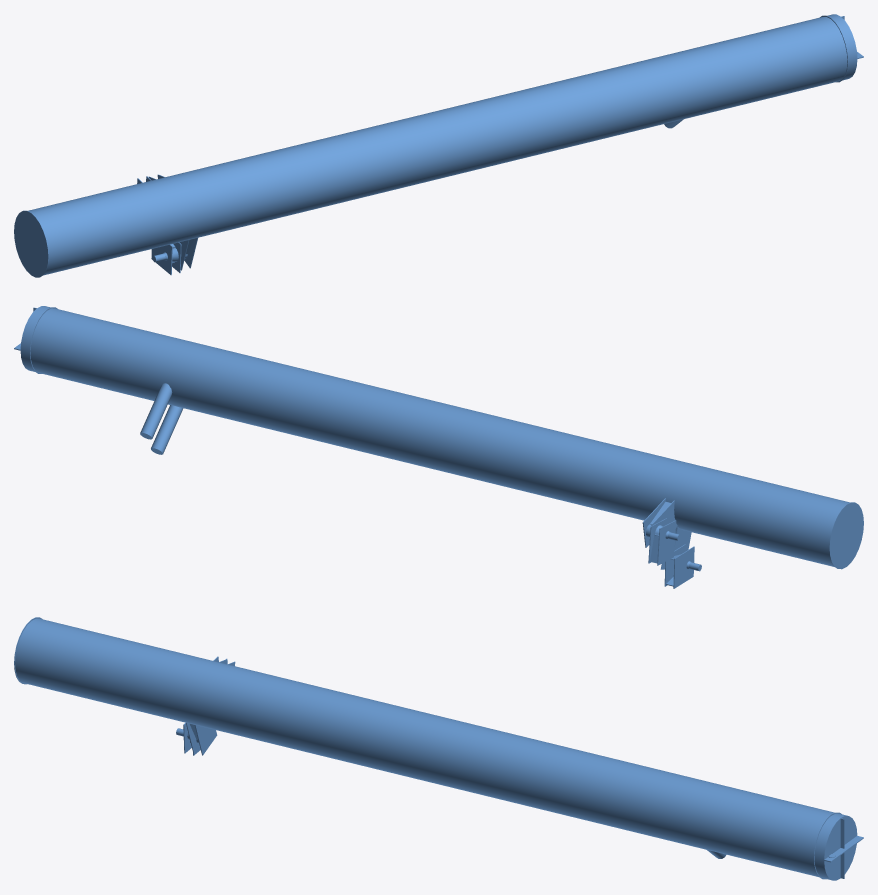
The model's file is tank-a2.glb.
3 views of the same model, one above another, from view 1: azimuth 30°, elevation 25°; view 2: azimuth 150°, elevation 25°; view 3: azimuth 330°, elevation 25° (orthographic).
Parts seen in each view (by area): view 1: tank-a2; view 2: tank-a2; view 3: tank-a2.
Boxes of the visible parts, left/top/right/bottom form: tank-a2: left=14, top=14, right=863, bottom=277; tank-a2: left=14, top=306, right=863, bottom=588; tank-a2: left=14, top=617, right=863, bottom=880.
Size of the model in its own units: 42.5 by 5.12 by 5.38.
